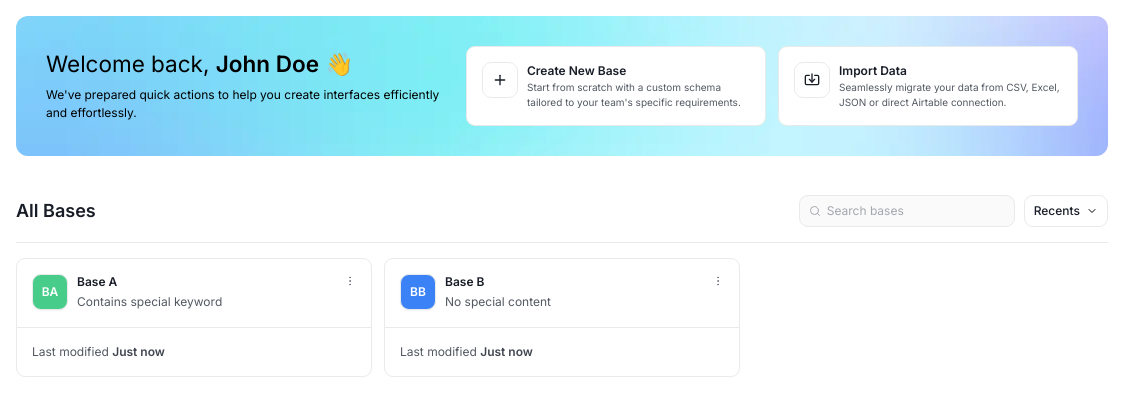
Test: HomePage › Search and Filter › should filter bases by search term in description
The width and height of the screenshot is (1125, 394).
Type "keyword" into the field with placeholder "Search bases".
click(916, 211); type("keyword")  # box [827, 202, 1005, 220]
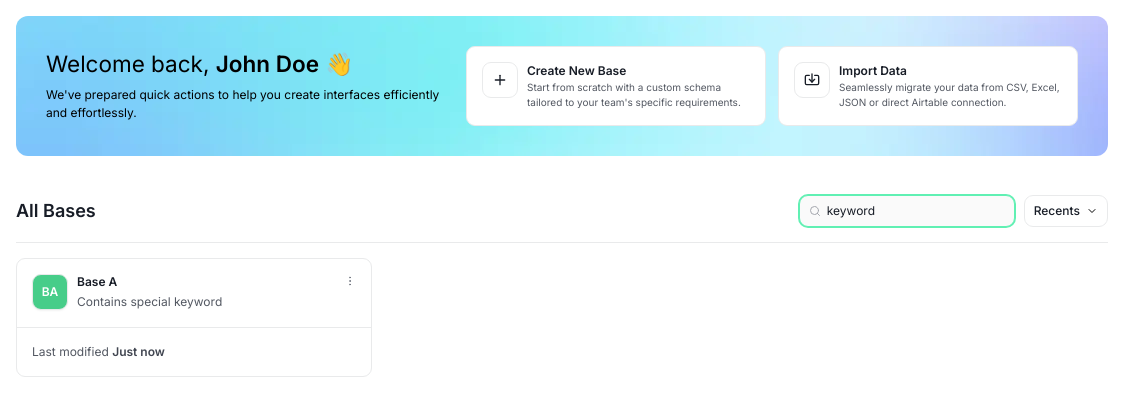
Expected: the heading "Base A" is shown, [77, 274, 117, 289]
Result: the heading "Base B" is gone
